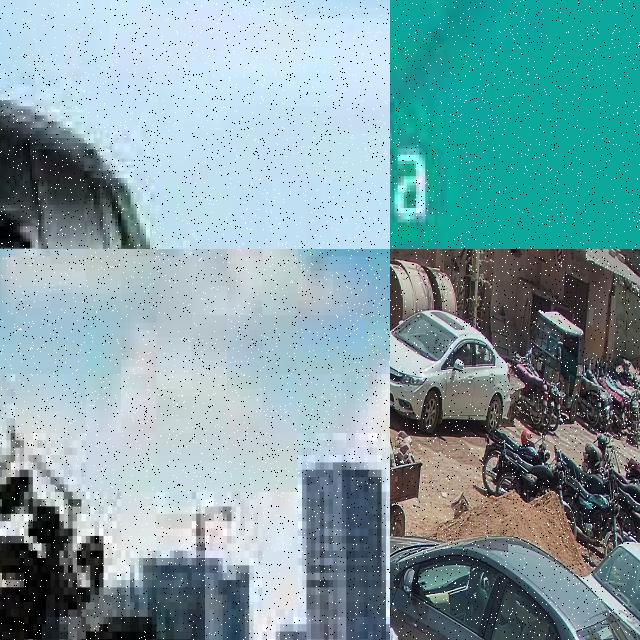bike: (0, 492, 209, 640), (480, 423, 546, 497), (491, 439, 565, 503), (564, 468, 621, 548), (511, 352, 548, 428), (559, 447, 614, 497), (617, 487, 640, 542), (579, 374, 602, 426), (582, 433, 611, 474), (616, 466, 640, 506), (624, 457, 640, 508)
car: (0, 0, 207, 249), (390, 537, 640, 640), (390, 310, 511, 437), (588, 541, 640, 640)
